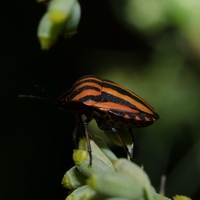insect: (57, 75, 158, 131)
